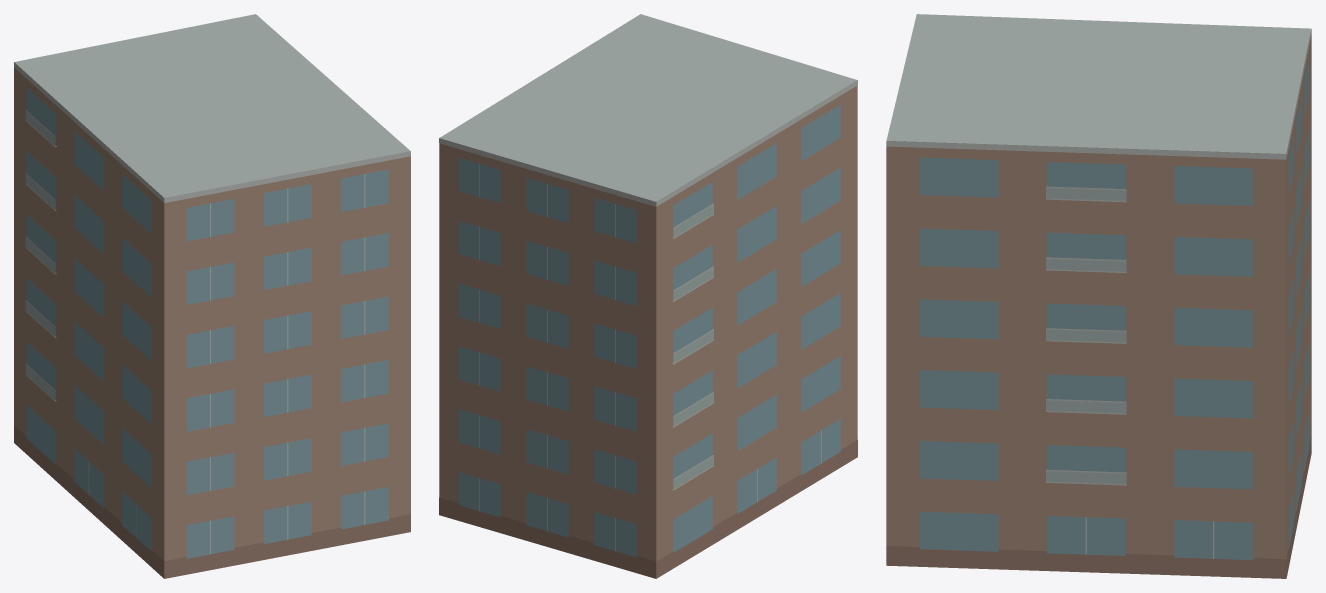
Rendered from survey-upis-32542780.glb.
The picture shows the model from 3 angles, left to right: view 1: azimuth 30°, elevation 25°; view 2: azimuth 150°, elevation 25°; view 3: azimuth 270°, elevation 25°; orthographic projection. The views are drawn at different scales.
Parts seen in each view (by area): view 1: survey-upis-32542780.tmp; view 2: survey-upis-32542780.tmp; view 3: survey-upis-32542780.tmp.
Boxes of the visible parts, bbox=[...] form: survey-upis-32542780.tmp: bbox=[14, 14, 410, 578]; survey-upis-32542780.tmp: bbox=[439, 14, 857, 578]; survey-upis-32542780.tmp: bbox=[886, 14, 1311, 578].
Size of the model in its own units: 12.8 by 18.1 by 16.42.
